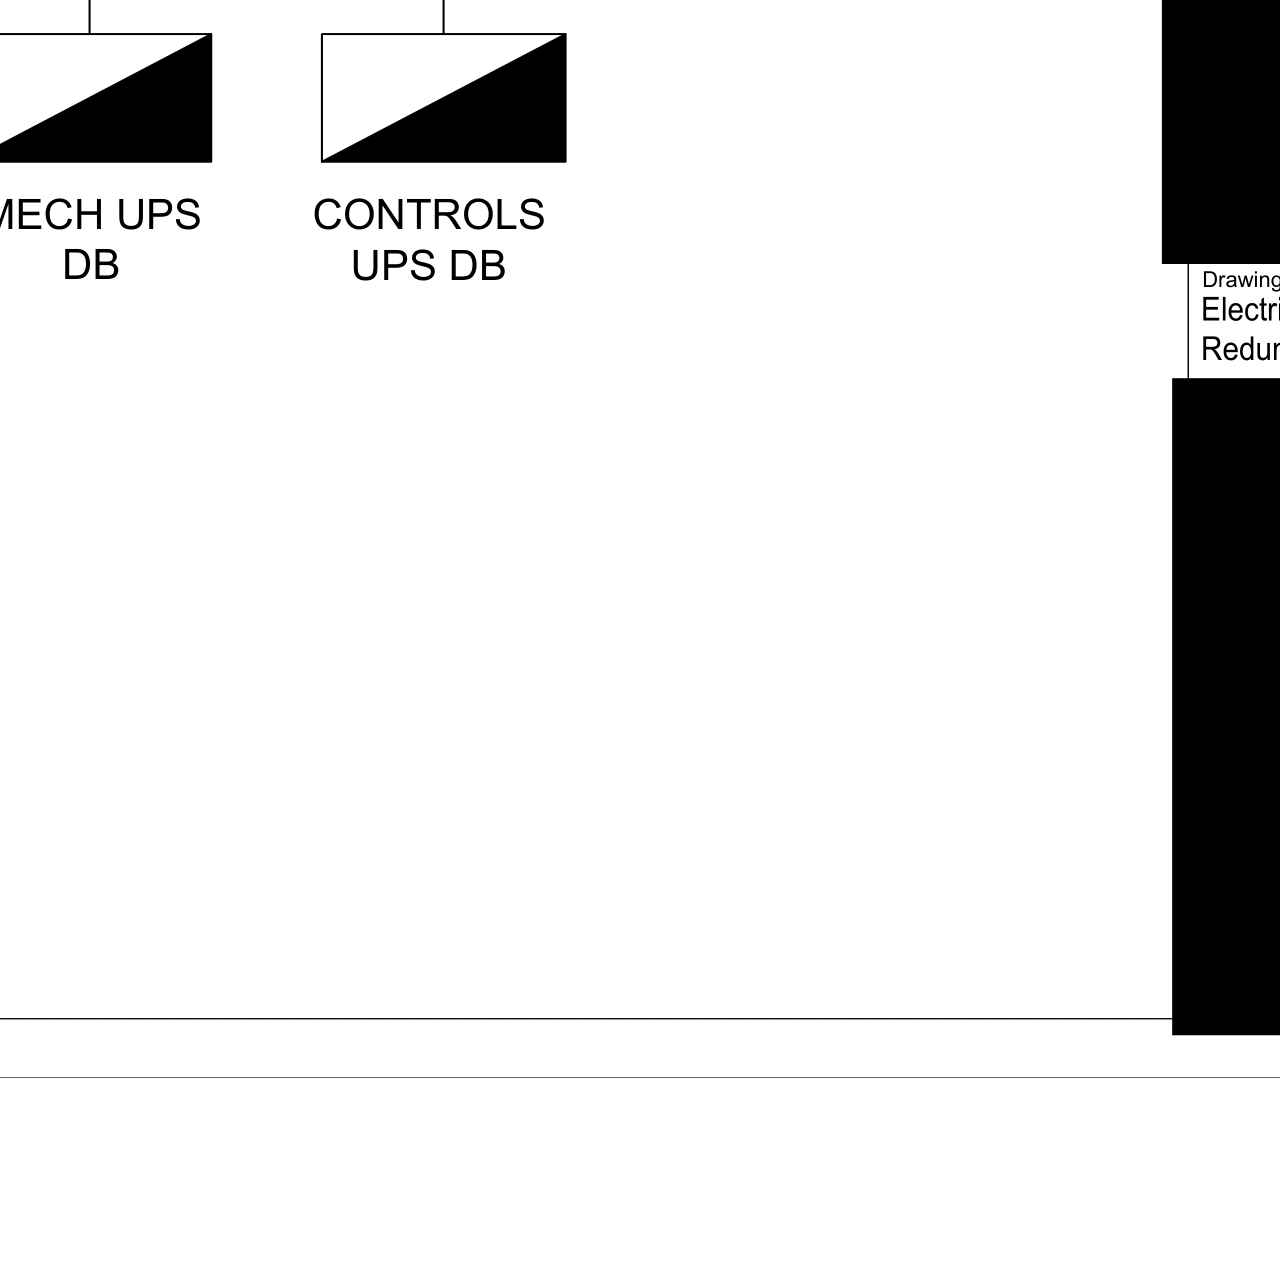Distribution Board: (304, 13, 584, 181)
